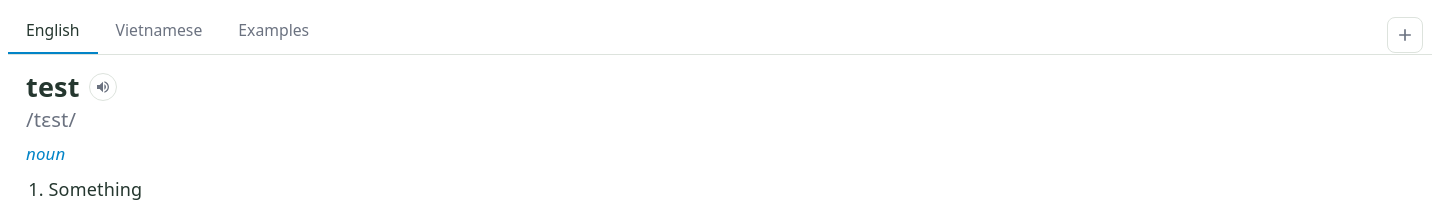
Test: StatelessDictionary › shows no examples message when none available
The width and height of the screenshot is (1440, 217).
Click the button "Examples".
click(274, 31)  # box [220,8,327,54]
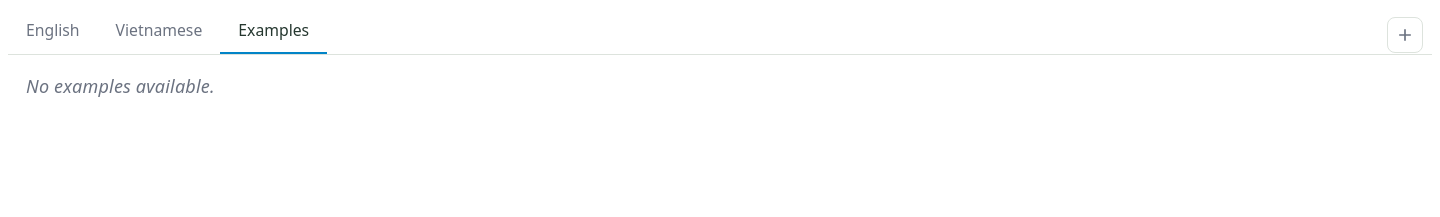
Now the text "No examples available." is shown, box [26,74,215,98]
